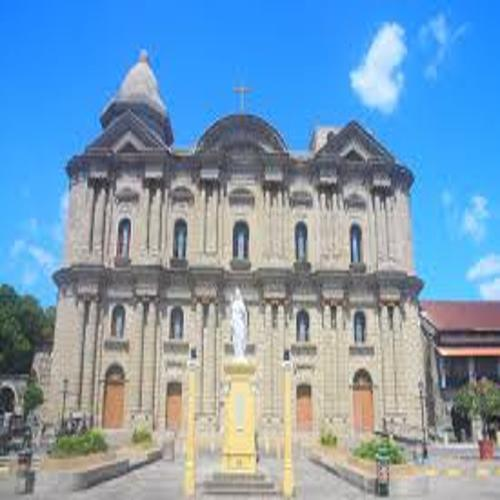Taal Basilica Church: (46, 38, 433, 469)
